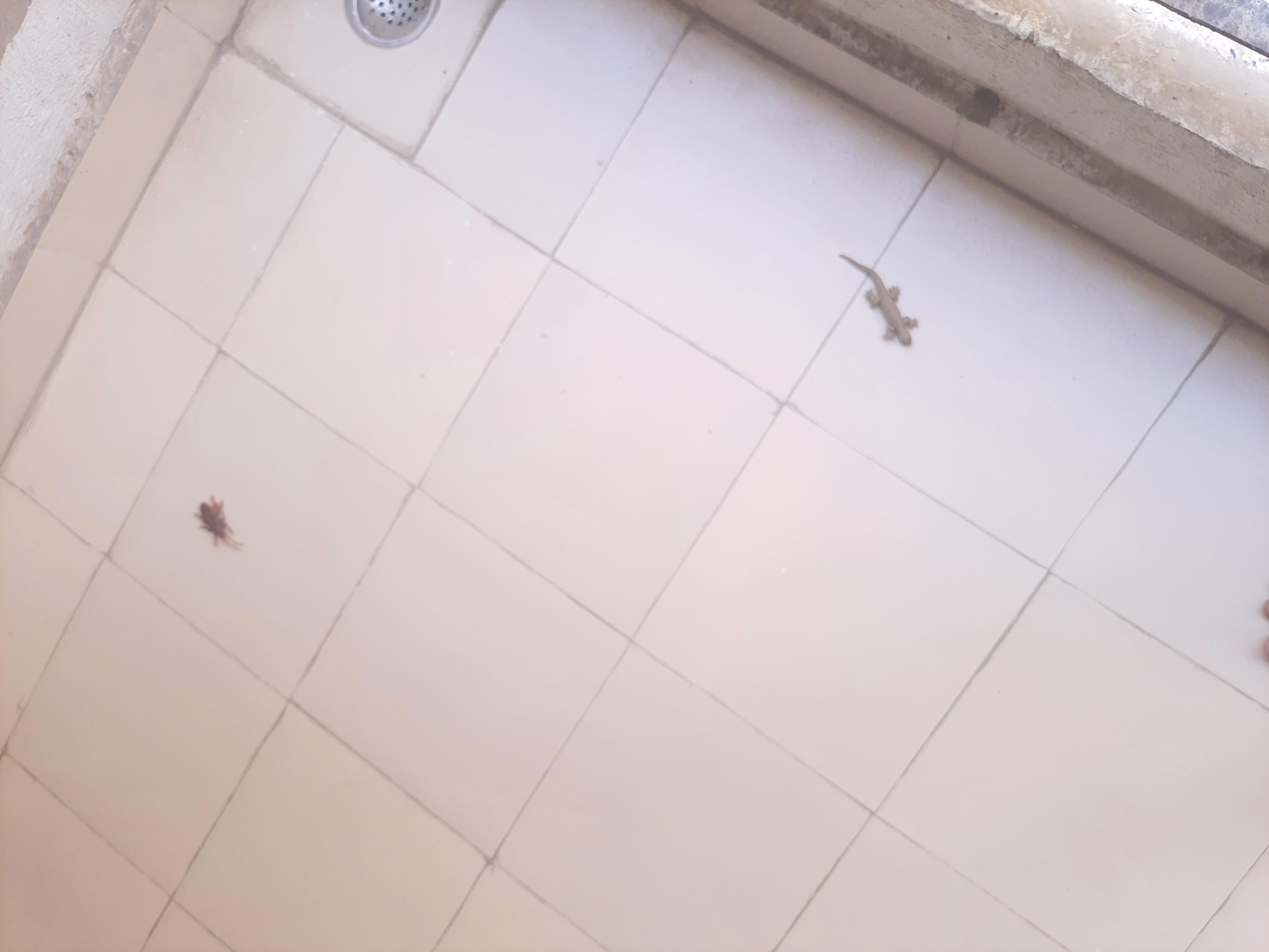cockroach: (521, 137, 615, 184)
lizard: (782, 631, 925, 697)
